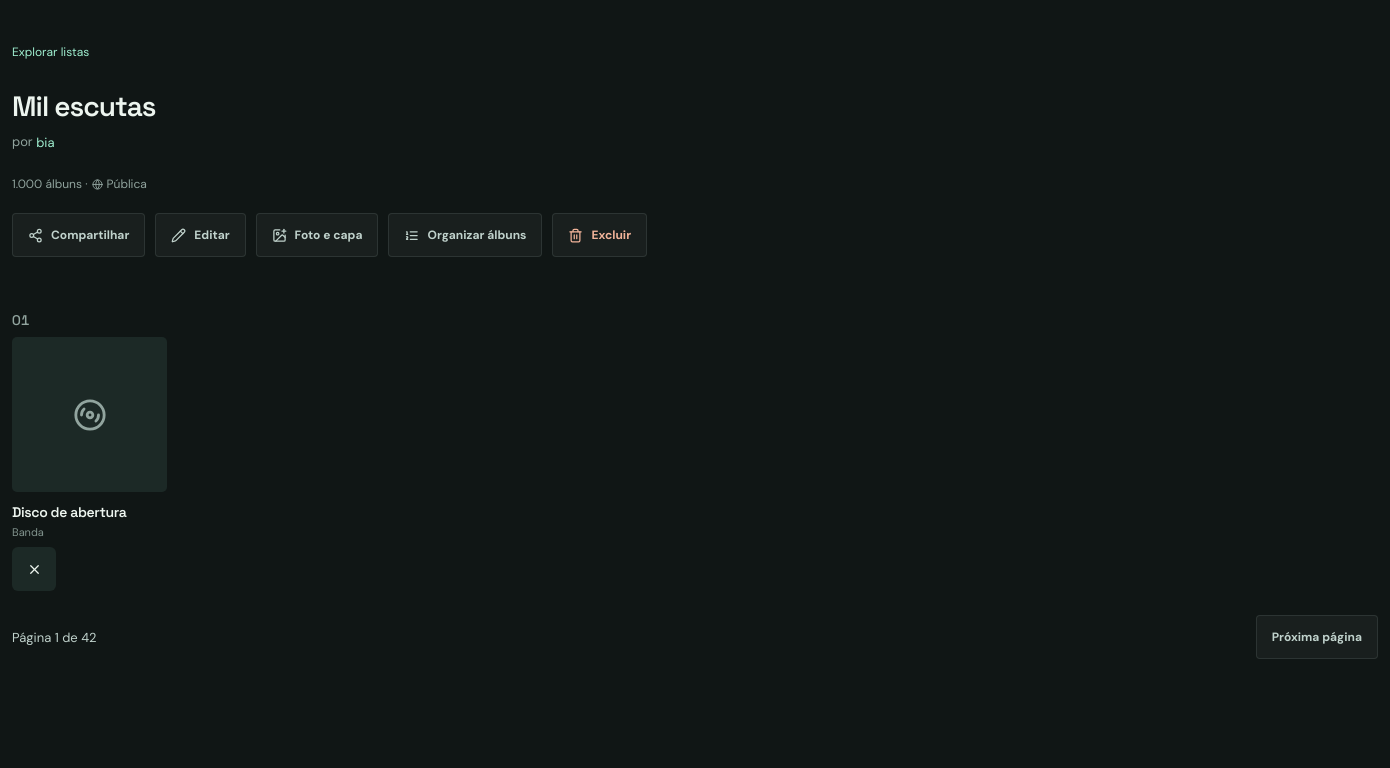
moves to another page with the current revision, announces success and focuses the moved item
Step 1. Click the button "Organizar álbuns" → [466, 235], box left=388, top=213, right=542, bottom=257
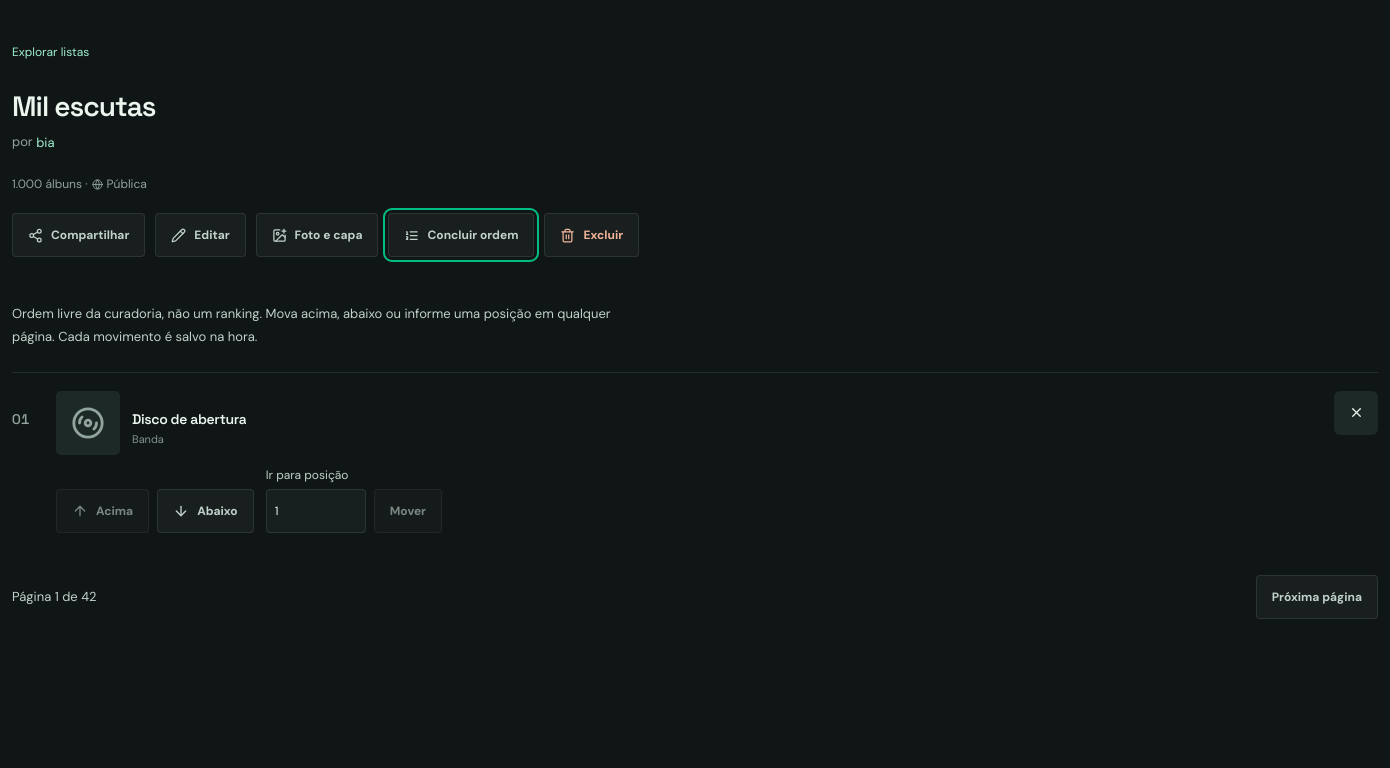
Step 2. Replace the text in the number field named "Nova posição de Disco de abertura" with "25" → [316, 511], box left=266, top=489, right=366, bottom=533
Then press Enter
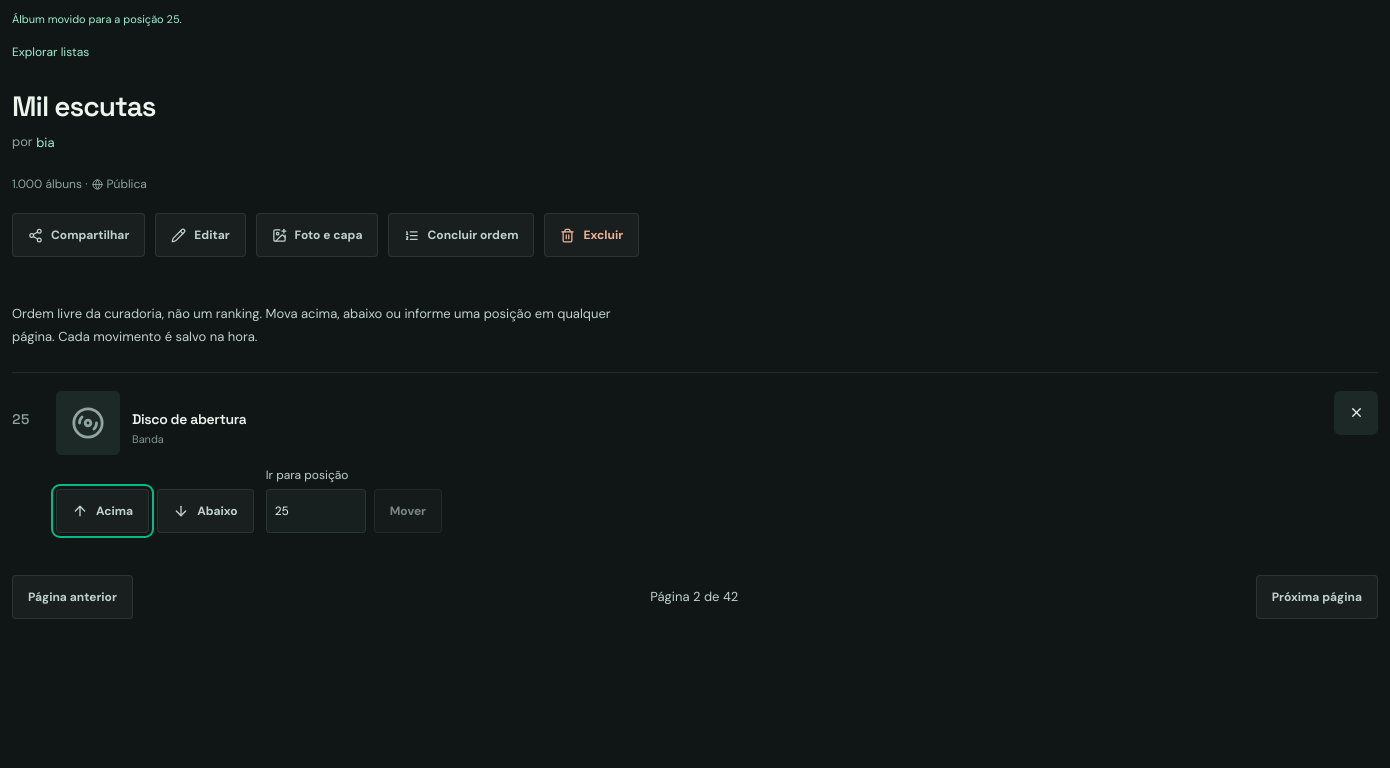
Check: the text "Álbum movido para a posição 25." is shown, box left=12, top=12, right=182, bottom=26
